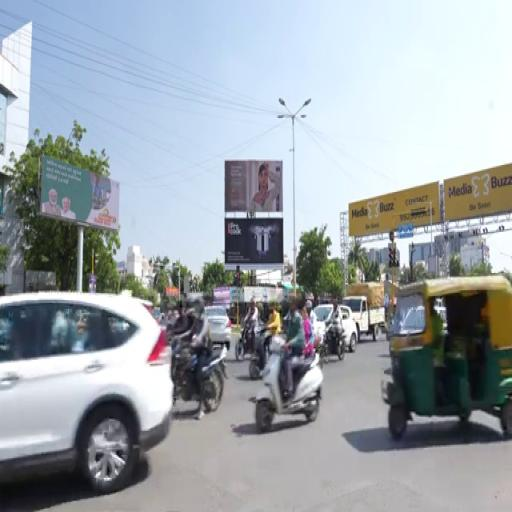Car: (0, 292, 173, 493), (205, 306, 231, 351), (339, 306, 358, 352), (340, 306, 357, 352)
